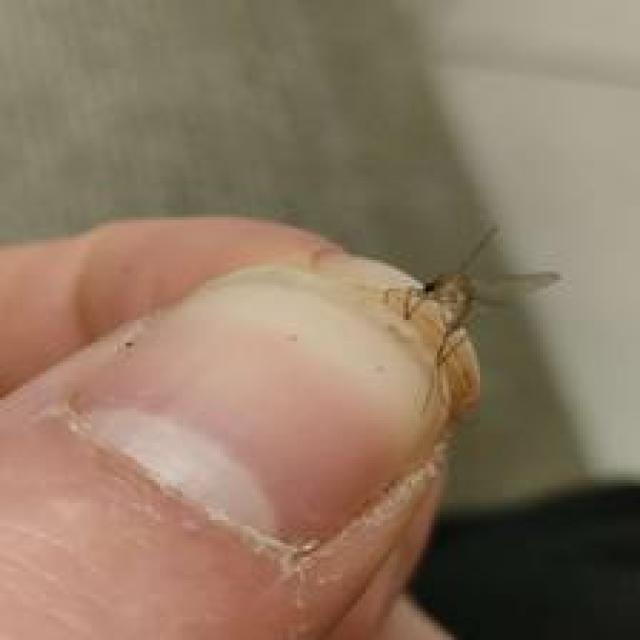Culex: (380, 223, 563, 417)
